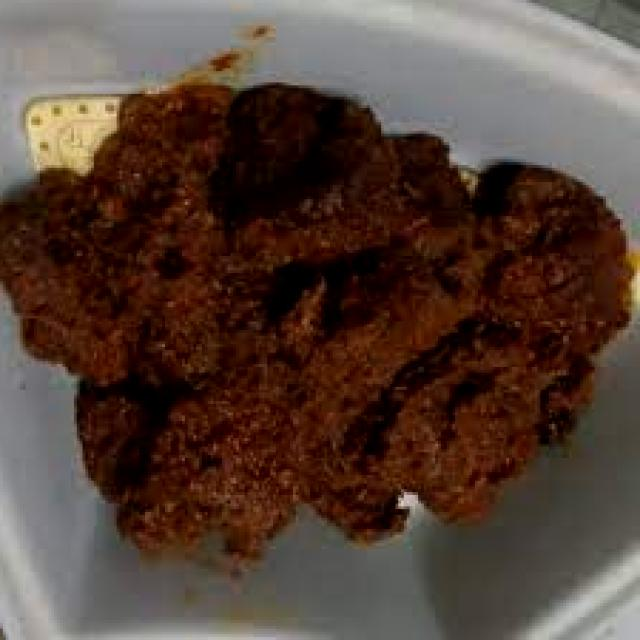rendang: (0, 77, 637, 586)
